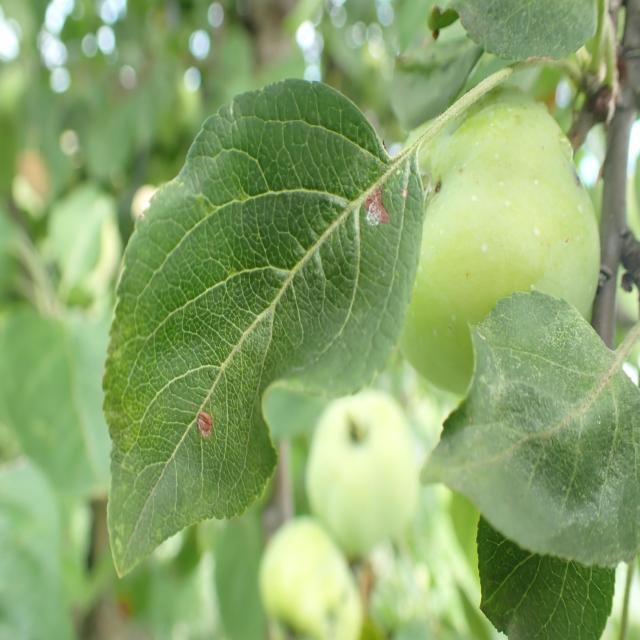Black Rot: (358, 185, 400, 263), (178, 391, 222, 465)
